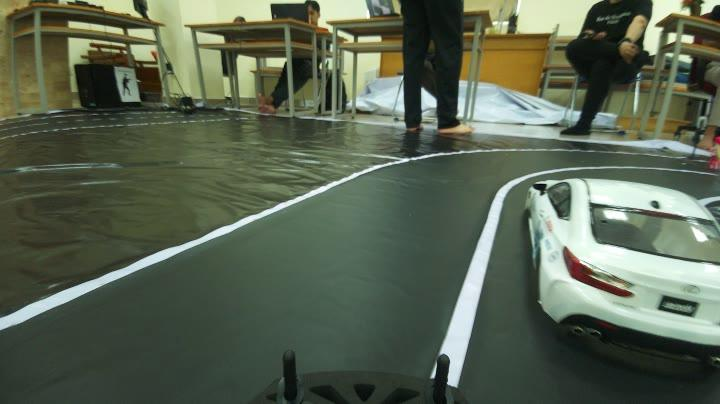car: (523, 164, 720, 362)
